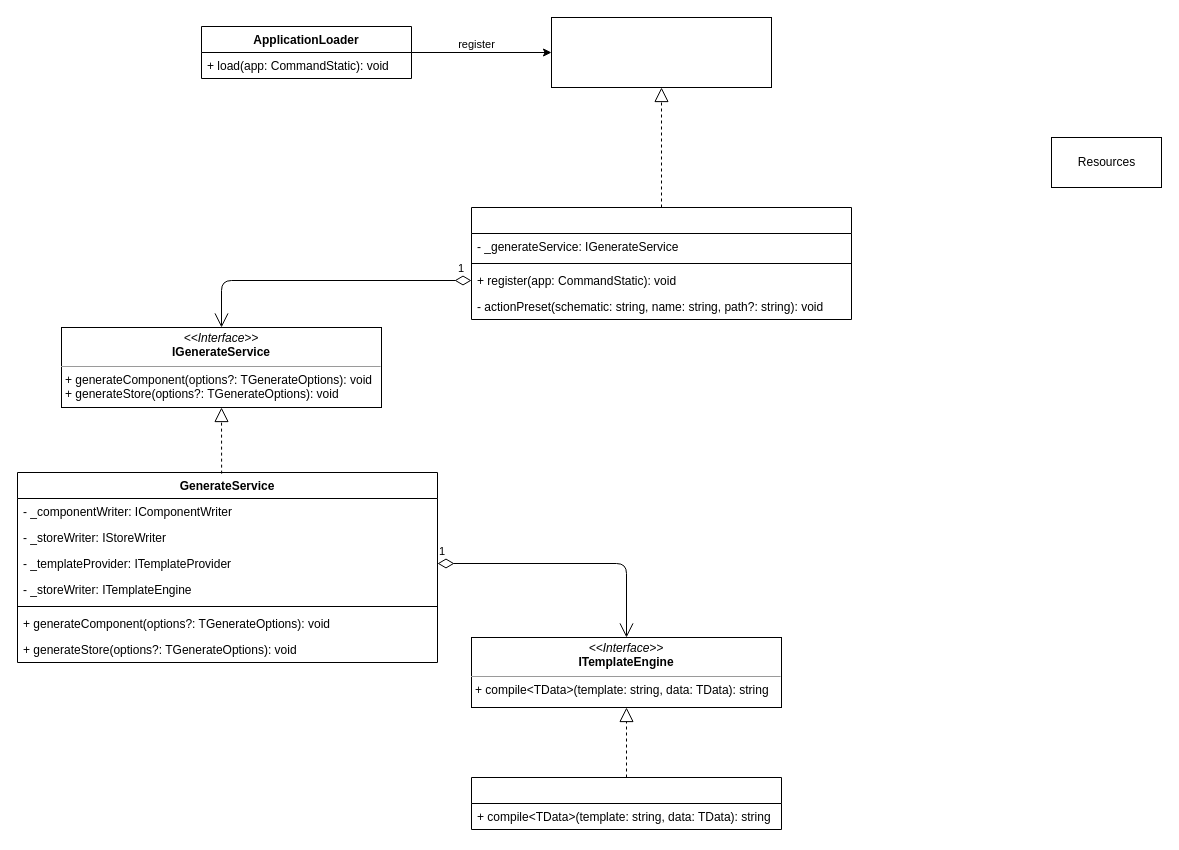
Image size: 1179x850. Some labels were removed from this diagram. Each missing label, with the box of its shape:
<<Interface>> ICommand + register(app: CommandStatic): void: (550, 16, 772, 88)
GenerateCommand: (470, 206, 852, 320)
TemplateEngine: (470, 776, 782, 830)
